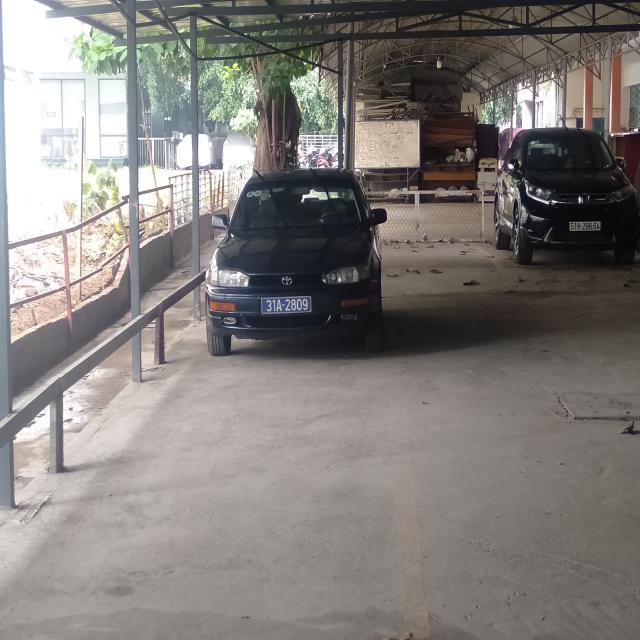bien_trang: (568, 218, 604, 234)
bien_xanh: (258, 294, 313, 316)
